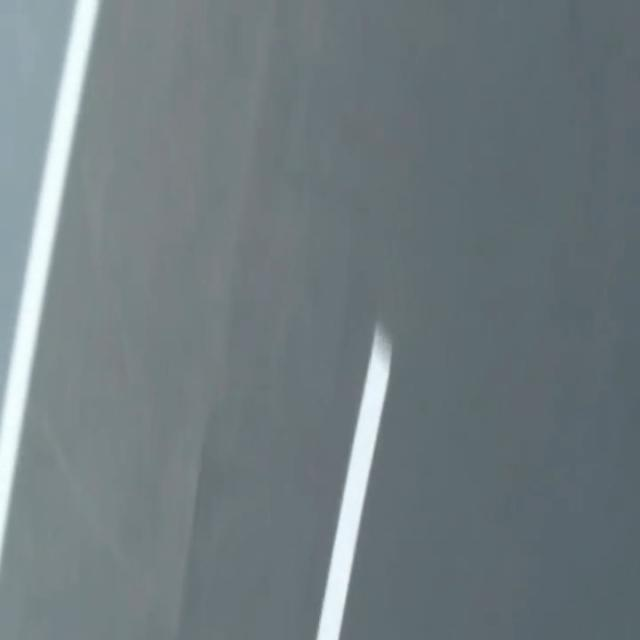center: (316, 324, 391, 639)
left: (0, 0, 100, 564)
